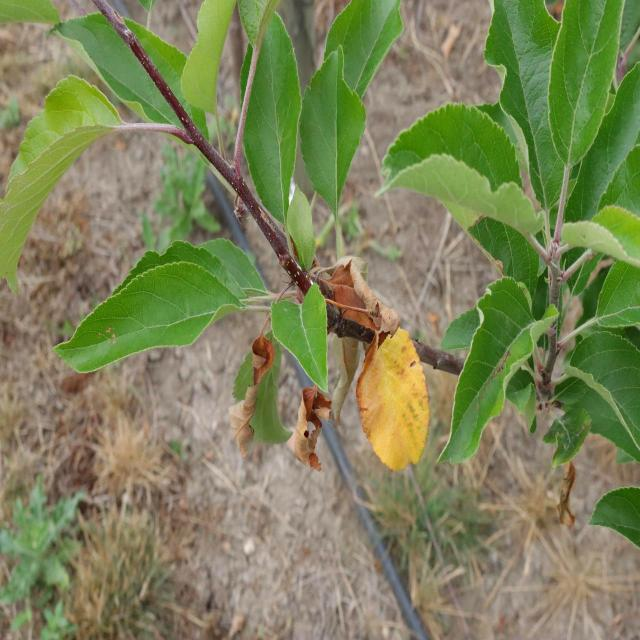-FireBlight-: (322, 263, 432, 483), (232, 340, 270, 442), (284, 400, 336, 464)
